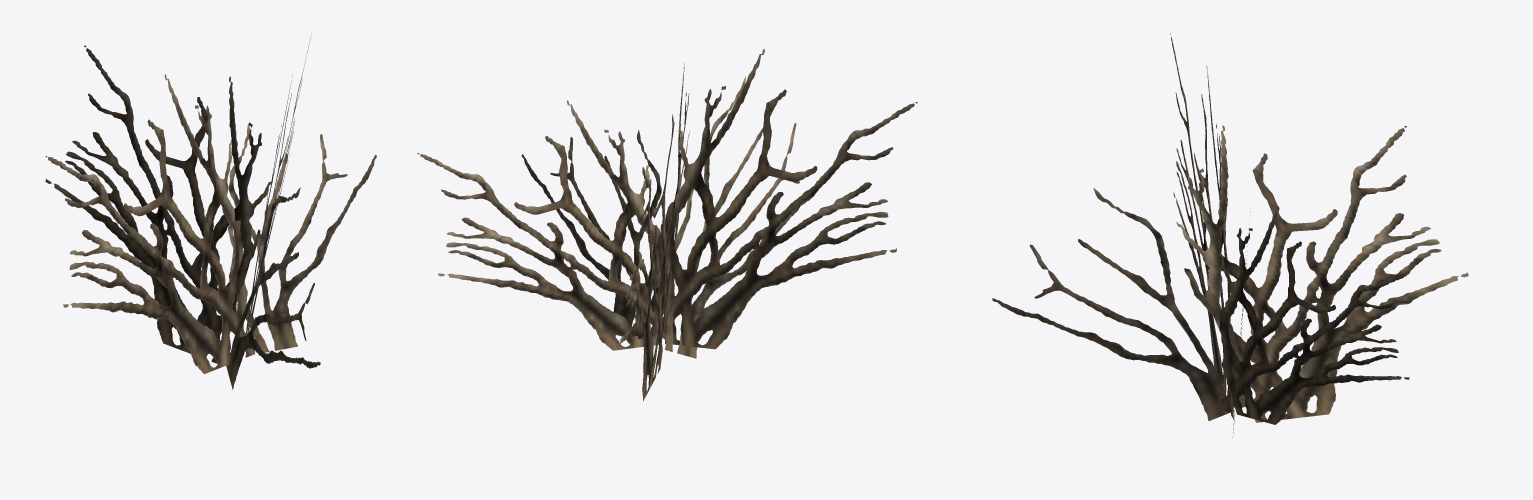
Rendered from ZhiWu_All_02.FBX.
3 views of the same model, side by side, from view 1: azimuth 30°, elevation 25°; view 2: azimuth 150°, elevation 25°; view 3: azimuth 270°, elevation 25° (orthographic). The views are drawn at different scales.
Visible parts, largest first — view 1: ZhiWu_All_02; view 2: ZhiWu_All_02; view 3: ZhiWu_All_02.
Part boxes in pixels (bbox=[...]): ZhiWu_All_02: bbox=[45, 34, 376, 389]; ZhiWu_All_02: bbox=[417, 49, 917, 401]; ZhiWu_All_02: bbox=[992, 33, 1468, 437].
Bounding box in the file's own units: 128 × 125 × 165.
